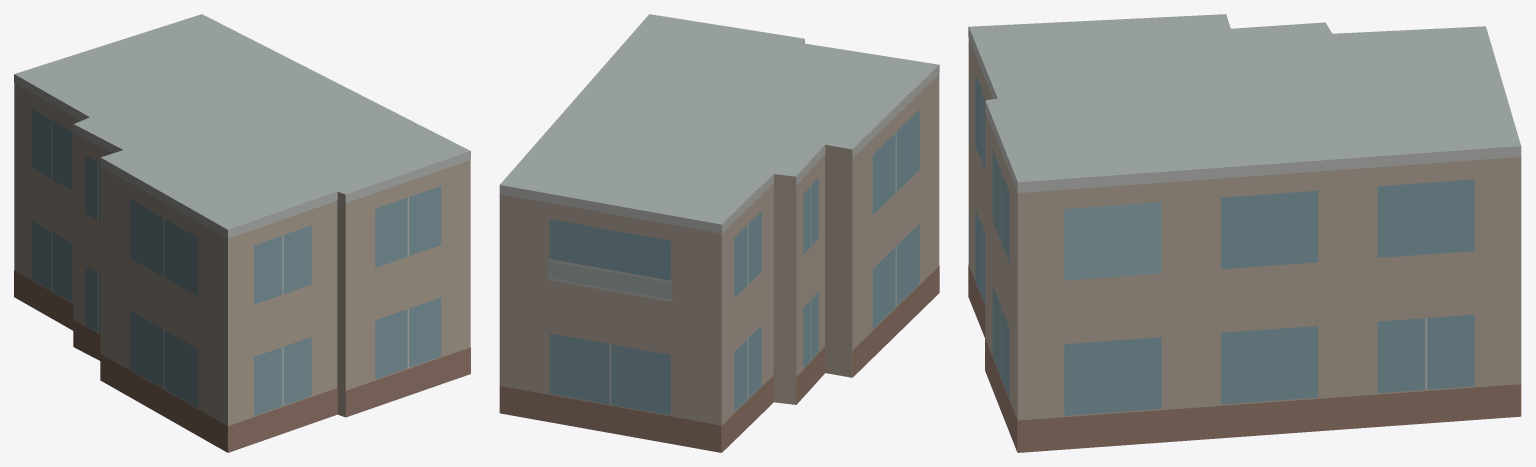
Rendered from survey-upis-33033610.glb.
The picture shows the model from 3 angles, left to right: view 1: azimuth 30°, elevation 25°; view 2: azimuth 150°, elevation 25°; view 3: azimuth 270°, elevation 25°; orthographic projection. The views are drawn at different scales.
Visible parts, largest first — view 1: survey-upis-33033610.tmp; view 2: survey-upis-33033610.tmp; view 3: survey-upis-33033610.tmp.
Boxes of the visible parts, left/top/right/bottom form: survey-upis-33033610.tmp: left=14, top=14, right=470, bottom=452; survey-upis-33033610.tmp: left=499, top=14, right=939, bottom=452; survey-upis-33033610.tmp: left=968, top=14, right=1521, bottom=452.
Size of the model in its own units: 8.15 by 6.1 by 11.3.
